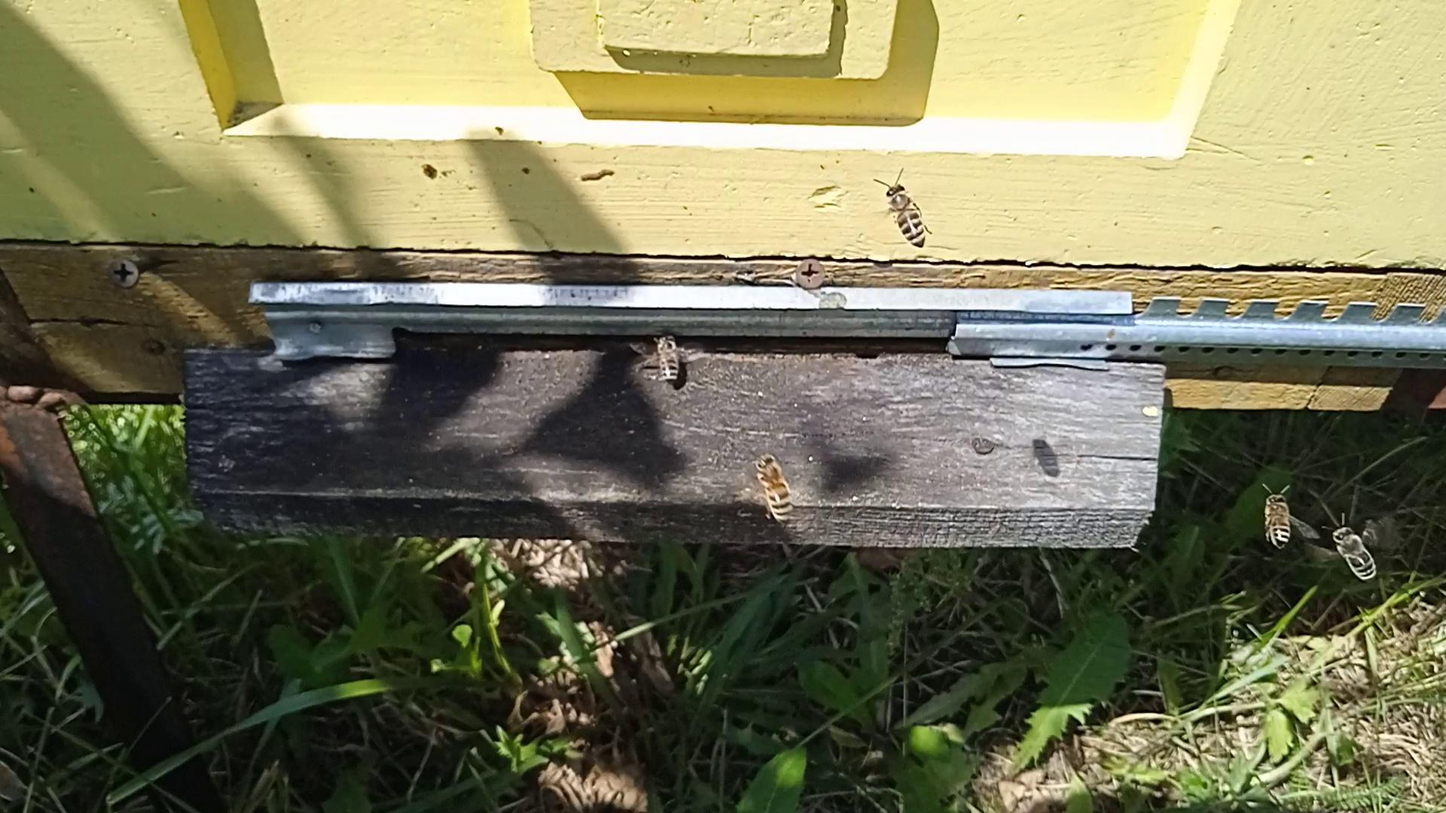worker-bee: (884, 181, 929, 248), (754, 452, 794, 522), (1332, 525, 1378, 582), (651, 333, 684, 386), (1264, 492, 1292, 550)
